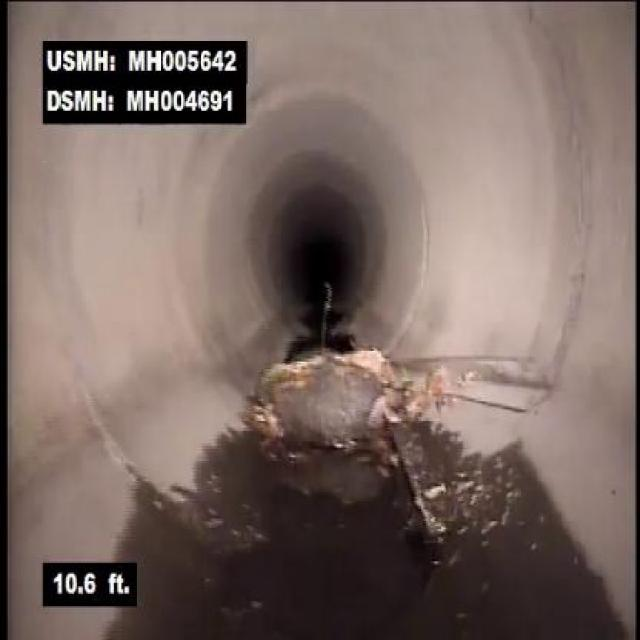Obstacle: (242, 328, 429, 482)
